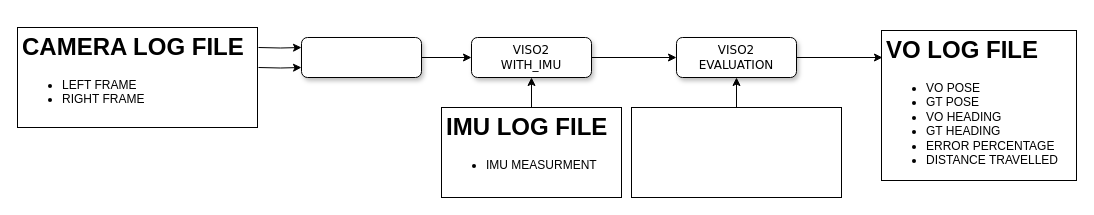
Some shapes in this 1094 by 215 pixel diagram are drawn without their labels. Here are the shapes that lost their labels. From the top down, the centre of each, then its label:
(x=362, y=58): VISUAL ODOMETRY
(x=736, y=152): VICON LOG FILE VICON MEASURMENT
